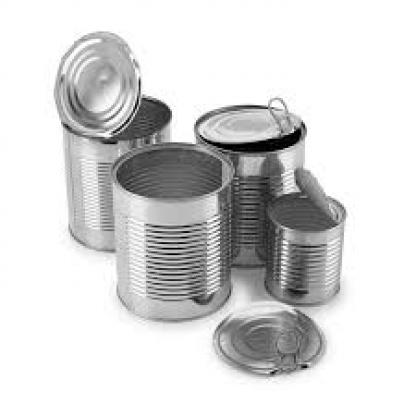METAL: (111, 140, 233, 322), (194, 102, 303, 266), (65, 92, 172, 252), (264, 190, 340, 307), (54, 30, 138, 135), (209, 300, 325, 376), (196, 96, 301, 141), (292, 164, 340, 222)
